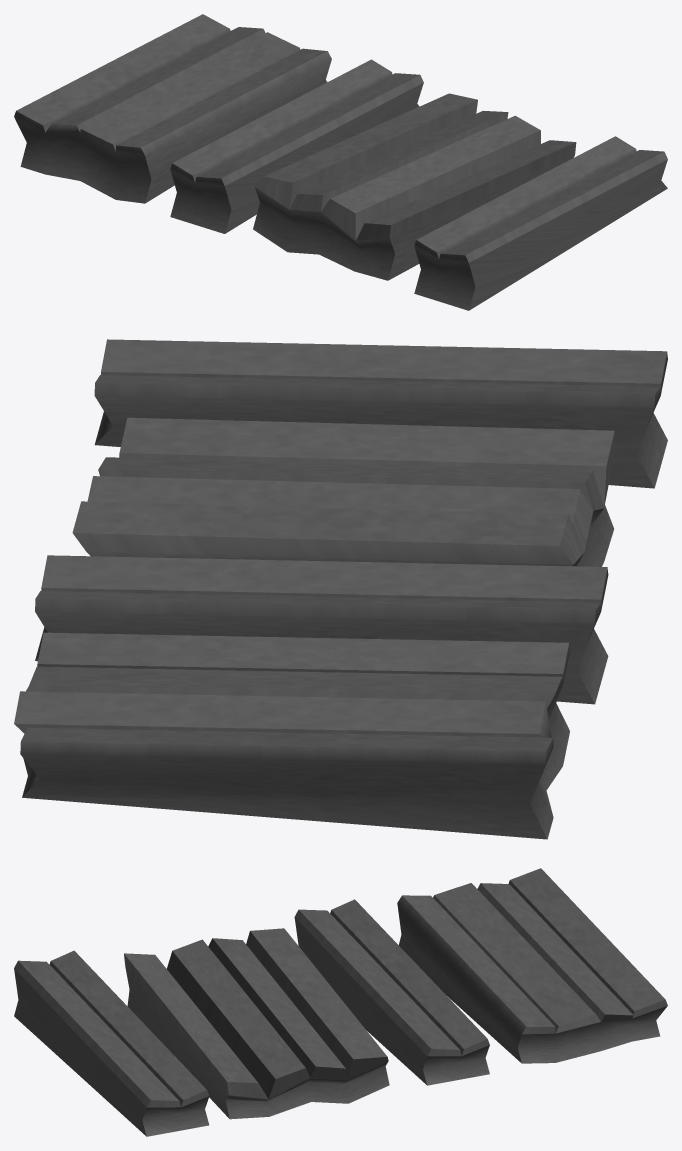
The model's file is Bridge.fbx.
3 renders of one model, top to bottom at view 1: azimuth 30°, elevation 25°; view 2: azimuth 150°, elevation 25°; view 3: azimuth 270°, elevation 25°, orthographic. The views are drawn at different scales.
Parts seen in each view (by area): view 1: Trial_Level_2:Trial_Level_2:Trial_Level_2:Trial_Level_2:pCub; view 2: Trial_Level_2:Trial_Level_2:Trial_Level_2:Trial_Level_2:pCub; view 3: Trial_Level_2:Trial_Level_2:Trial_Level_2:Trial_Level_2:pCub.
Boxes of the visible parts, box(x1,y1,x2,y2) form: Trial_Level_2:Trial_Level_2:Trial_Level_2:Trial_Level_2:pCub: box(14, 14, 667, 310); Trial_Level_2:Trial_Level_2:Trial_Level_2:Trial_Level_2:pCub: box(14, 339, 667, 839); Trial_Level_2:Trial_Level_2:Trial_Level_2:Trial_Level_2:pCub: box(14, 868, 667, 1136).
Size of the model in its own units: 8.87 by 1.23 by 10.95.
